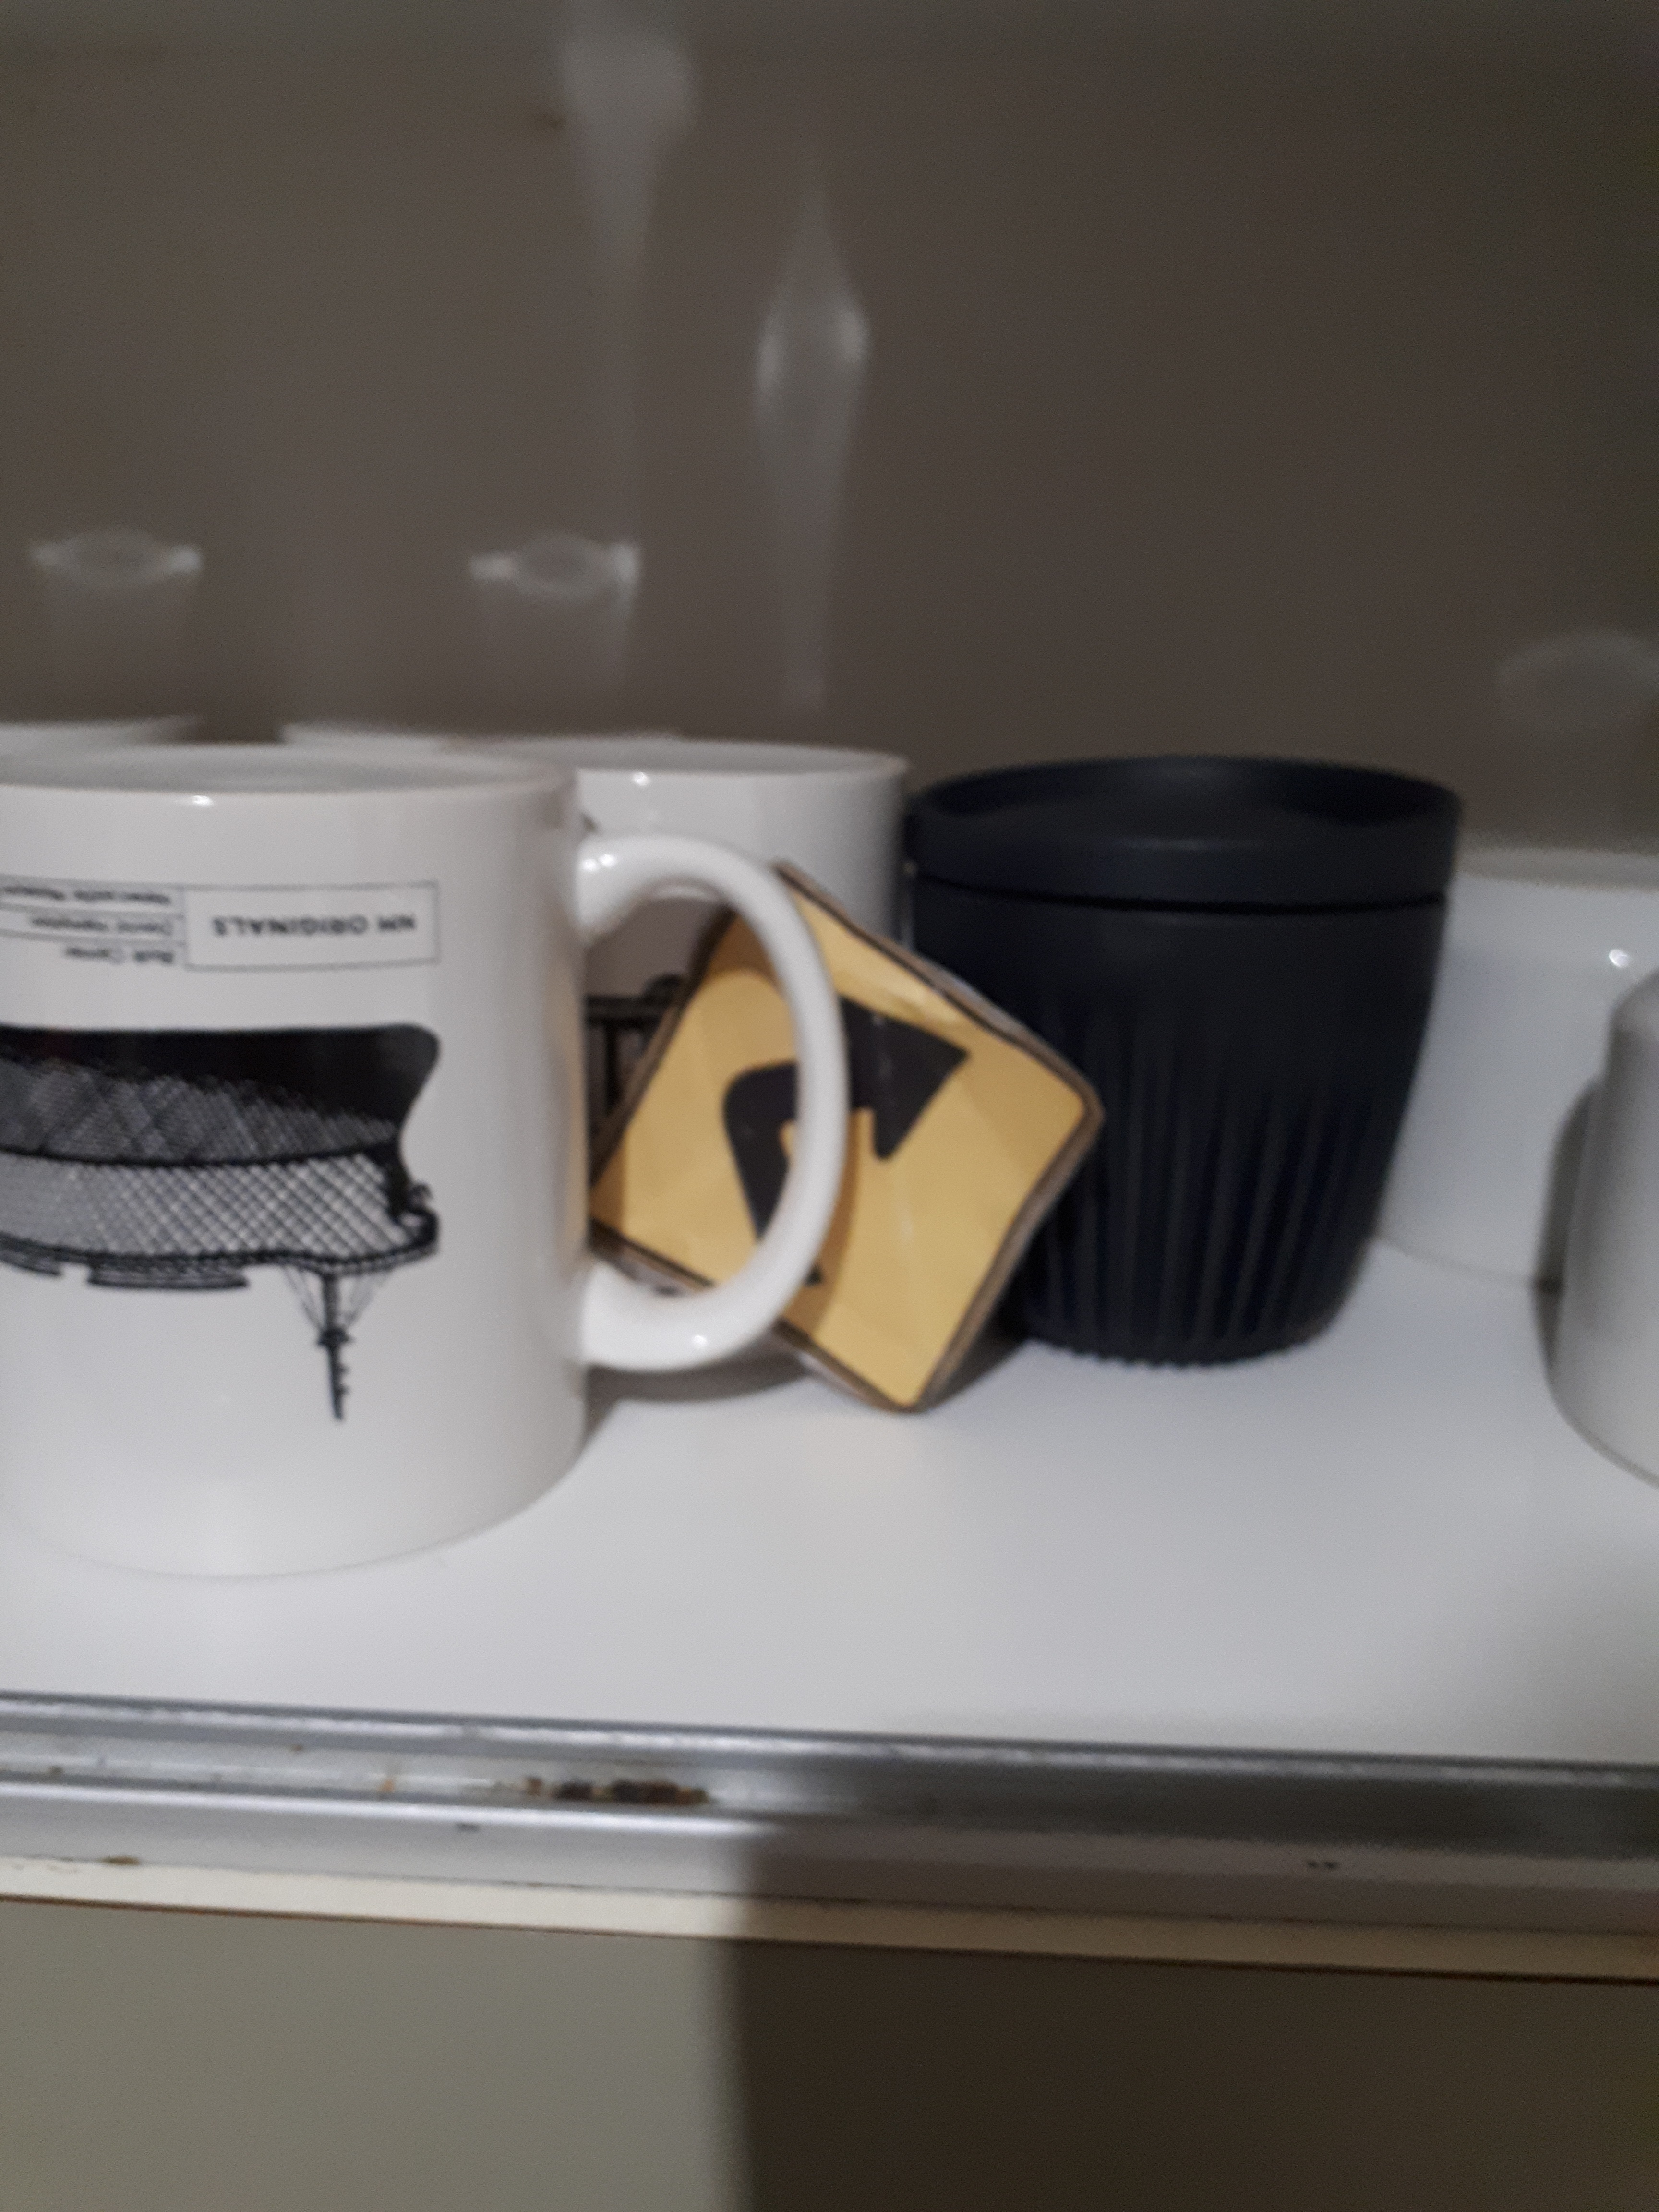right: (544, 780, 1164, 1491), (643, 972, 1039, 1346), (774, 946, 1108, 1273), (688, 972, 1025, 1207)
